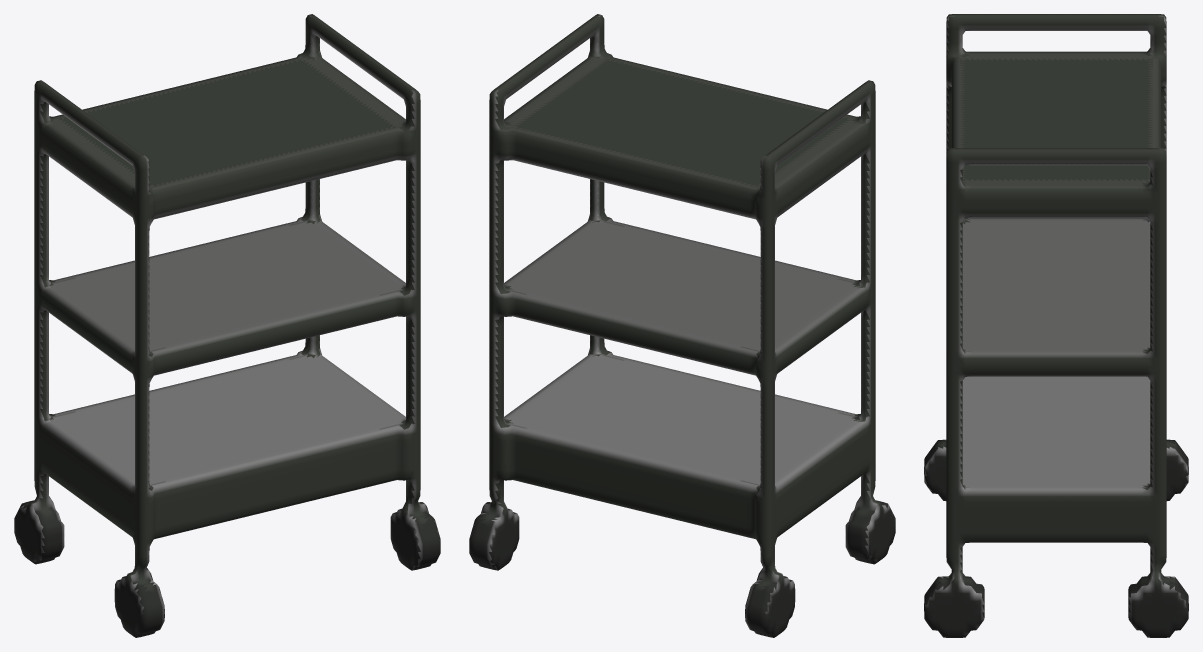
File: stack3.glb
3 renders of one model, left to right at view 1: azimuth 30°, elevation 25°; view 2: azimuth 150°, elevation 25°; view 3: azimuth 270°, elevation 25°, orthographic.
Bounding box in the file's own units: 0.612 × 0.93 × 0.462.
Materials: 1 (1 with a texture image).
